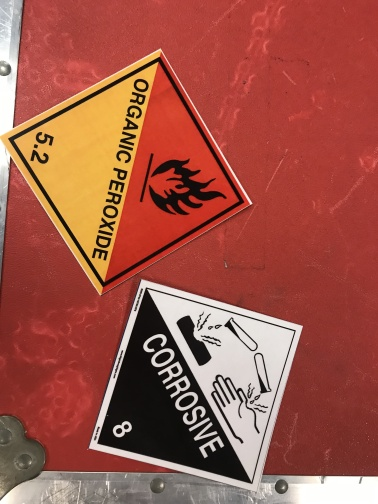Corrosive: (88, 279, 304, 492)
OrganicPeroxide: (1, 49, 249, 296)
